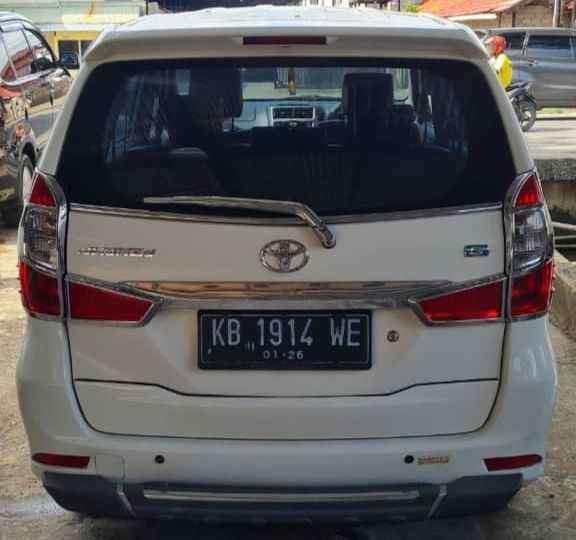plate: (196, 308, 372, 370)
